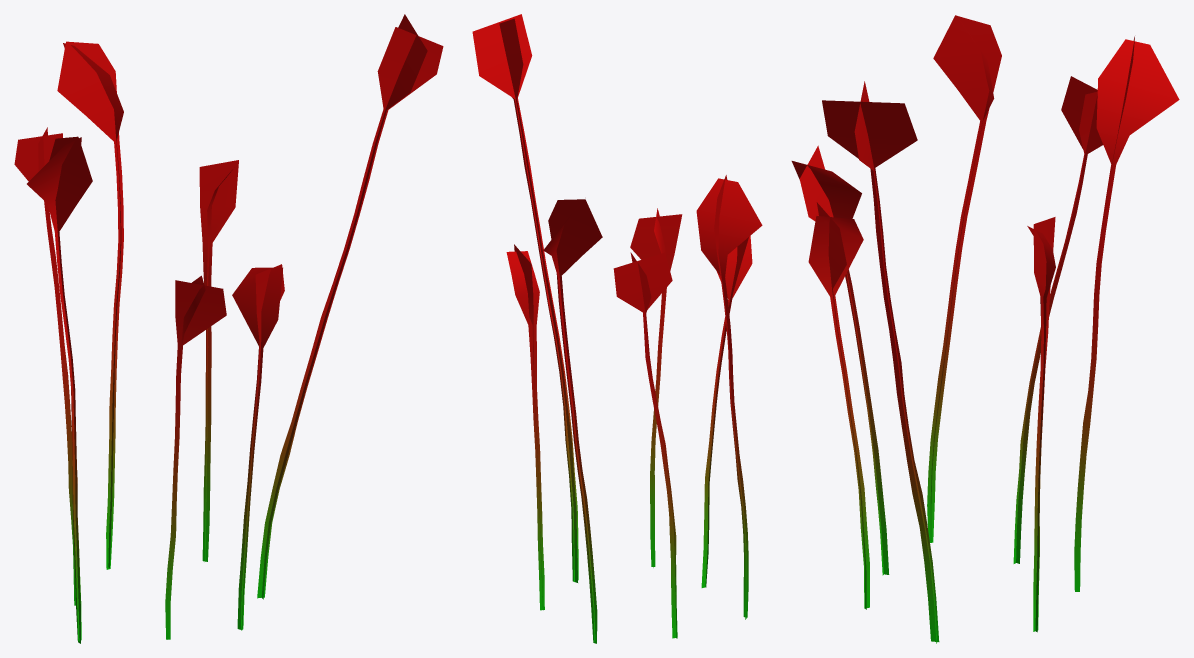
The model's file is Cotton Grass_LOD3_Var10_wlykecdia.fbx.
The picture shows the model from 3 angles, left to right: view 1: azimuth 30°, elevation 25°; view 2: azimuth 150°, elevation 25°; view 3: azimuth 270°, elevation 25°; orthographic projection. The views are drawn at different scales.
Parts seen in each view (by area): view 1: _g7rv_Var10_LOD3; view 2: _g7rv_Var10_LOD3; view 3: _g7rv_Var10_LOD3.
Boxes of the visible parts, x1,y1,x2,y2 form: _g7rv_Var10_LOD3: [14, 14, 443, 643]; _g7rv_Var10_LOD3: [472, 14, 762, 643]; _g7rv_Var10_LOD3: [791, 15, 1179, 643].
Size of the model in its own units: 15.17 by 22.74 by 13.02.
